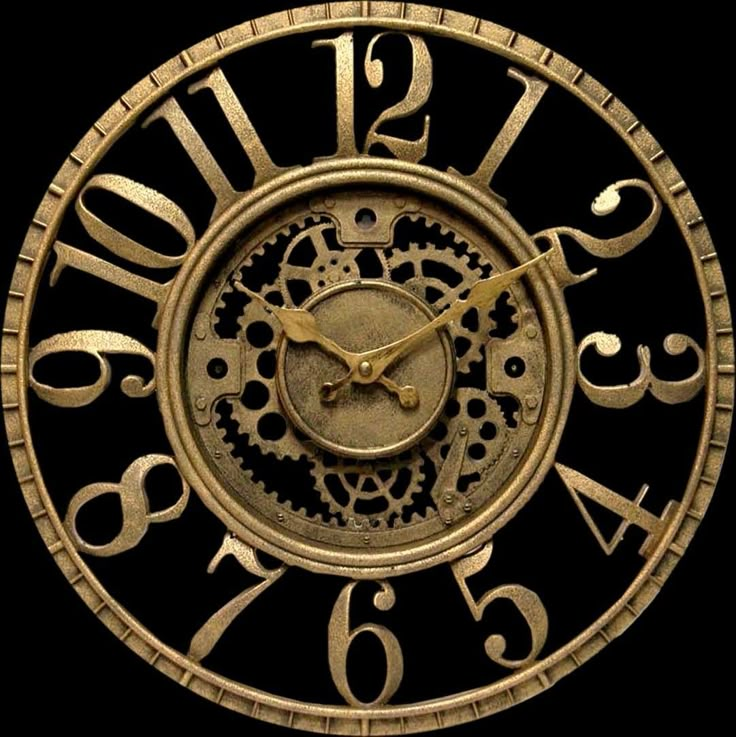clock: (13, 10, 736, 733)
